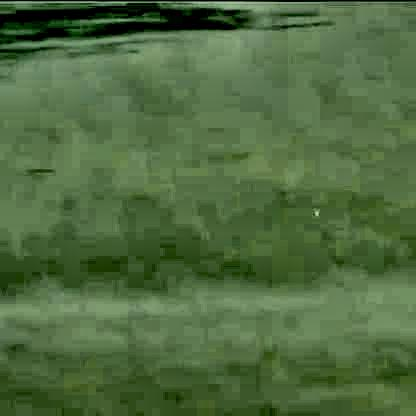golfball: (311, 206, 316, 213)
